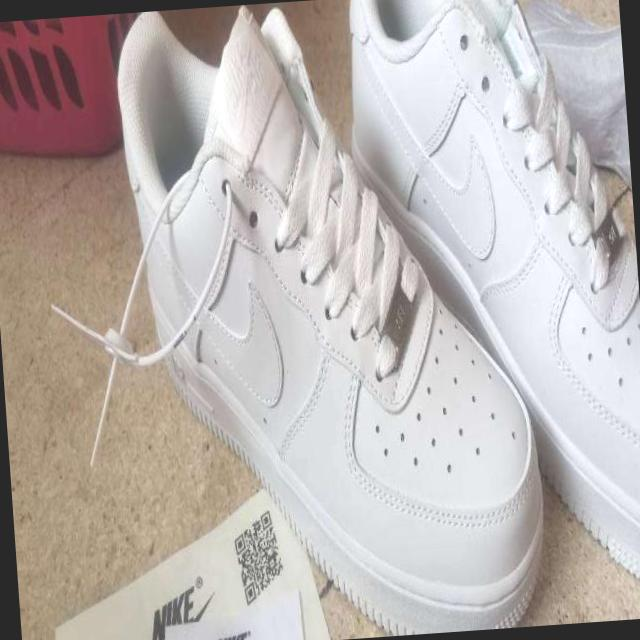nike_original_airforce: (88, 0, 553, 640), (334, 0, 640, 617)
